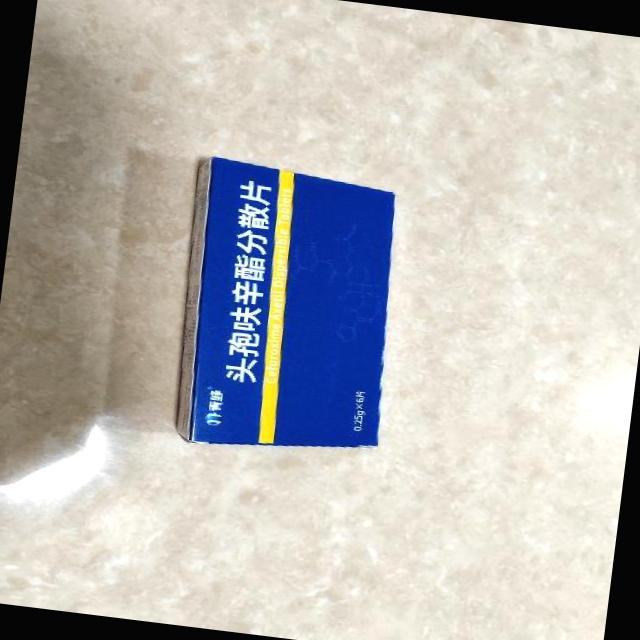box: (164, 155, 411, 465)
